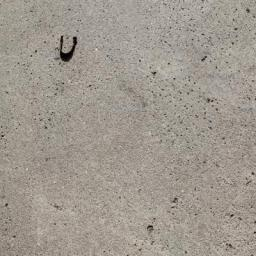FOD: (57, 32, 81, 68)
